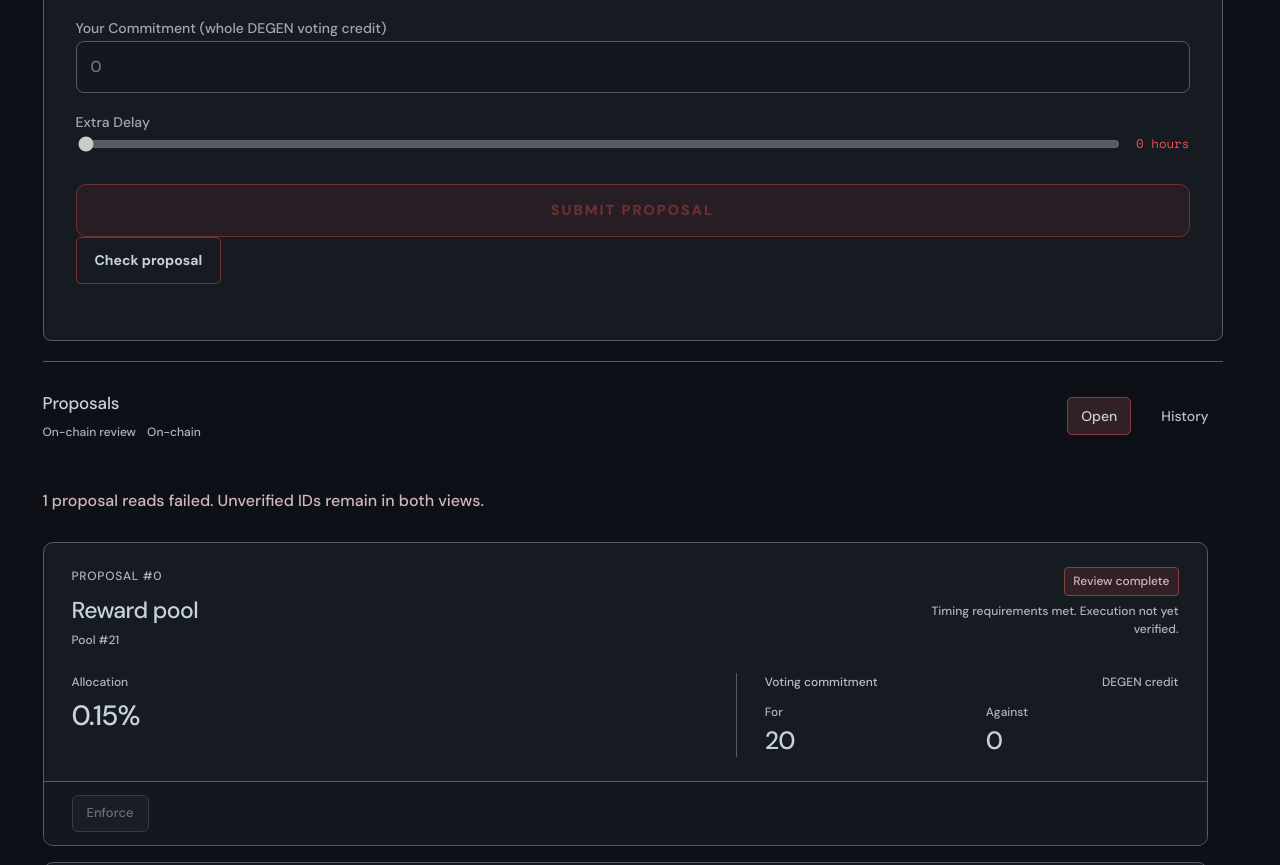
Test case: chain-first proposal views › keeps Open and History populated when the legacy API fails
(page scrolled)
Expected: the element named "Proposal 0" is shown, [42,542,1208,846]
Expected: the message shows "1 proposal reads failed", [42,490,484,511]
Click the button "History".
click(1185, 416)  # box [1147,396,1223,435]
(page scrolled)
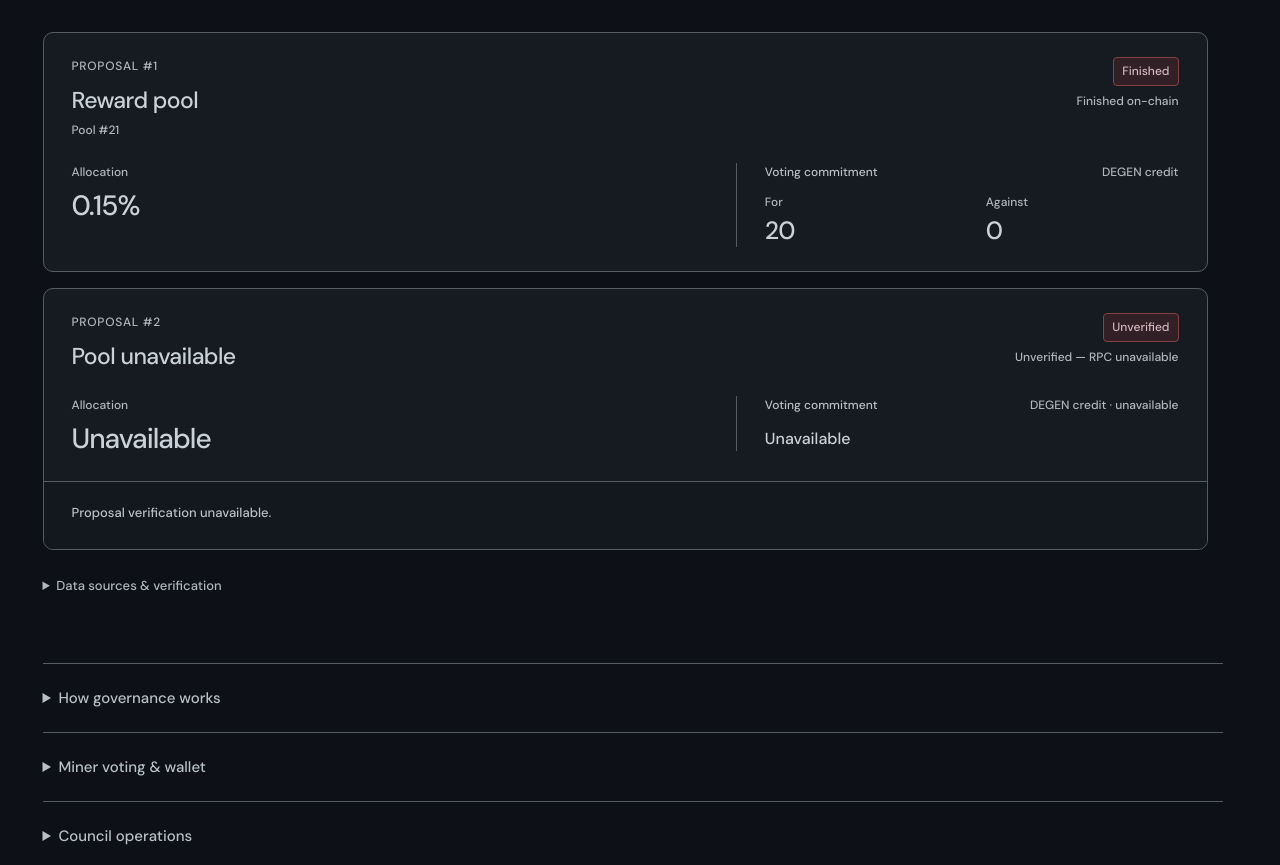
Expected: the element named "Proposal 2" is shown, [42,288,1208,550]
Result: the element named "Proposal 1" is shown at [42,32,1208,272]
